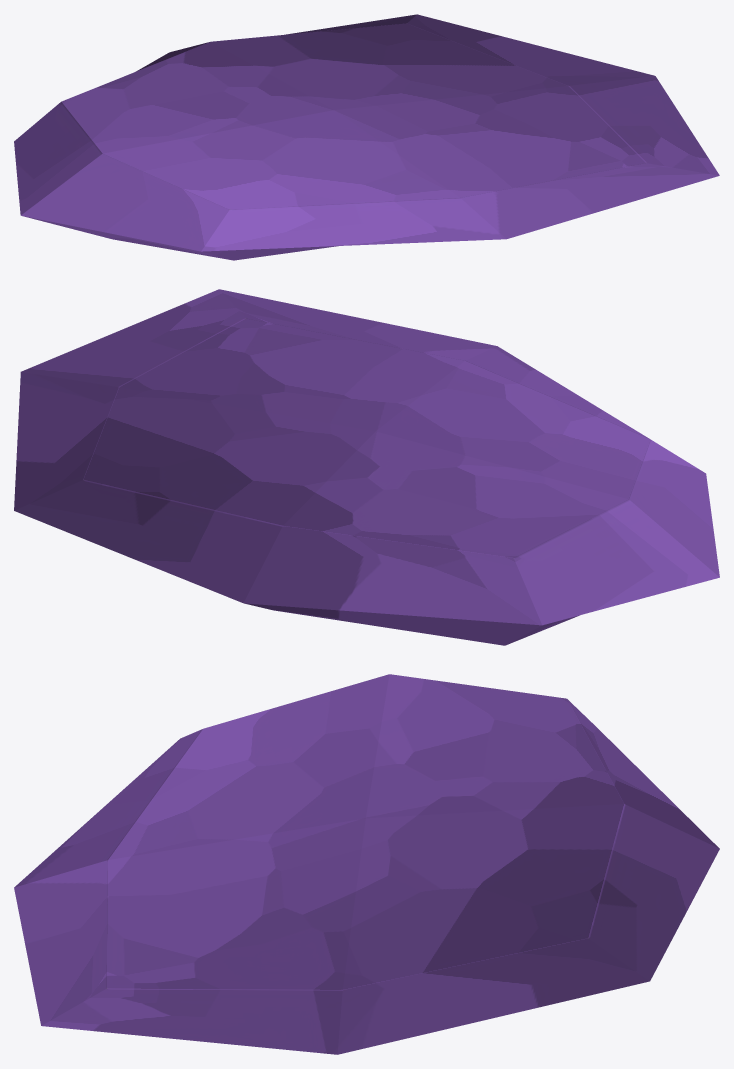
The model's file is stonePlate.fbx.
The picture shows the model from 3 angles, top to bottom: view 1: azimuth 30°, elevation 25°; view 2: azimuth 150°, elevation 25°; view 3: azimuth 270°, elevation 25°; orthographic projection. The views are drawn at different scales.
Parts seen in each view (by area): view 1: stonePlate; view 2: stonePlate; view 3: stonePlate.
Boxes of the visible parts, x1,y1,x2,y2 form: stonePlate: (14,14,719,260); stonePlate: (14,289,719,645); stonePlate: (14,674,719,1054).
Size of the model in its own units: 511 by 69.64 by 399.
Materials: 1 (1 with a texture image).
